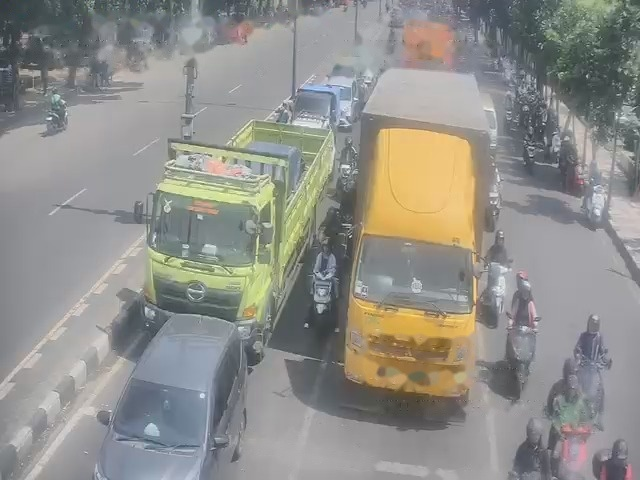Mobil: (101, 293, 237, 476)
Motor: (304, 225, 338, 331), (577, 356, 610, 417), (507, 318, 534, 391), (556, 425, 591, 479), (481, 262, 510, 326), (336, 136, 357, 201), (584, 183, 604, 228), (523, 124, 537, 173)
Truk: (343, 68, 492, 404), (135, 120, 336, 362)
